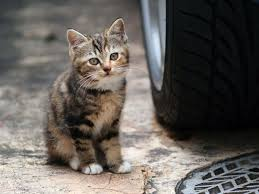cat: (34, 16, 142, 182)
